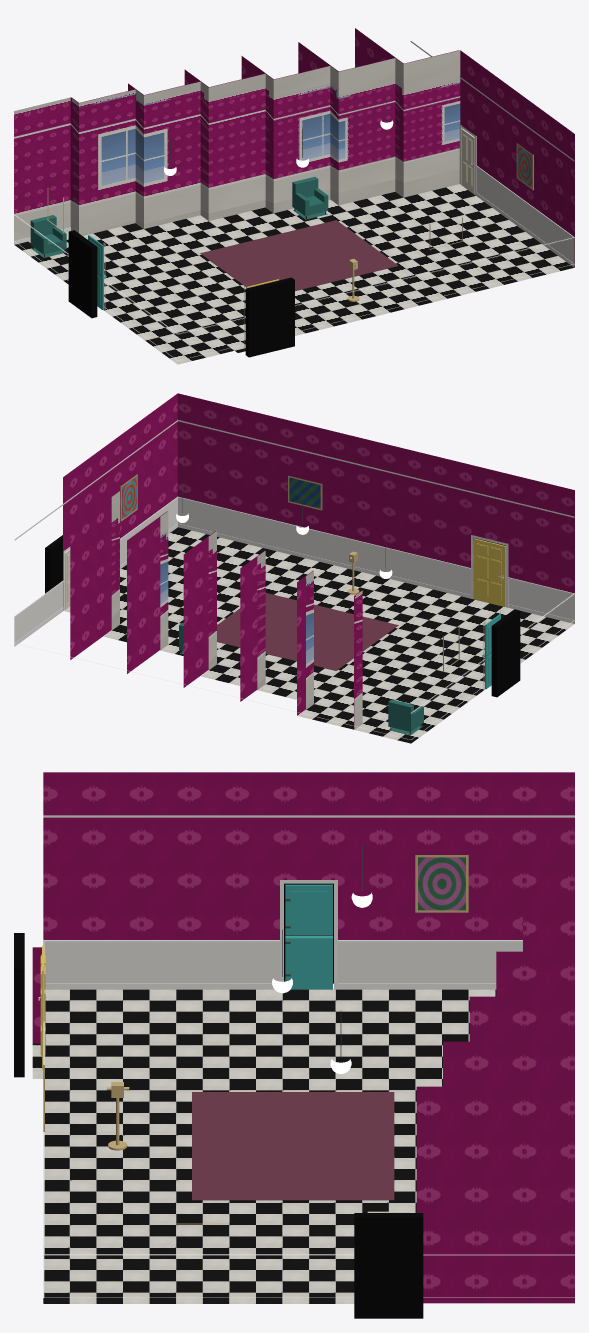
The model's file is rdwe_ames_room.glb.
3 renders of one model, top to bottom at view 1: azimuth 30°, elevation 25°; view 2: azimuth 150°, elevation 25°; view 3: azimuth 270°, elevation 25°, orthographic. The views are drawn at different scales.
Visible parts, largest first — view 1: Ames_Proj, Ames_Floor, Ames_Paper, Rug_Red, Void_Black, Trim_White, Ames_Dado, Velvet_Green, DoorLeaf_small, Paintings, DoorLeaf_grid; view 2: Ames_Paper, Ames_Floor, Ames_Dado, Ames_Proj, Rug_Red, Trim_White, Void_Black, DoorLeaf_word, Paintings, Velvet_Green, Frame_Gilt, DoorLeaf_grid; view 3: Ames_Paper, Ames_Floor, Rug_Red, Ames_Dado, Void_Black, Trim_White, DoorLeaf_grid, Paintings, Frame_Gilt, Shade_Glass, DoorLeaf_word.
Boxes of the visible parts, <box> form: Ames_Proj: <box>14,50,460,244</box>; Ames_Floor: <box>14,184,574,364</box>; Ames_Paper: <box>71,28,574,267</box>; Rug_Red: <box>200,220,398,290</box>; Void_Black: <box>68,230,294,357</box>; Trim_White: <box>14,41,574,360</box>; Ames_Dado: <box>14,167,574,334</box>; Velvet_Green: <box>30,176,328,257</box>; DoorLeaf_small: <box>461,128,474,194</box>; Paintings: <box>517,145,532,187</box>; DoorLeaf_grid: <box>88,235,106,309</box>; Ames_Paper: <box>63,393,574,729</box>; Ames_Floor: <box>64,527,574,743</box>; Ames_Dado: <box>14,498,574,713</box>; Ames_Proj: <box>111,491,362,729</box>; Rug_Red: <box>217,593,398,670</box>; Trim_White: <box>14,419,574,739</box>; Void_Black: <box>45,535,520,697</box>; DoorLeaf_word: <box>473,538,505,606</box>; Paintings: <box>122,476,320,518</box>; Velvet_Green: <box>179,623,423,735</box>; Frame_Gilt: <box>120,474,459,671</box>; DoorLeaf_grid: <box>482,614,500,689</box>; Ames_Paper: <box>32,772,574,1303</box>; Ames_Floor: <box>32,989,496,1303</box>; Rug_Red: <box>192,1092,394,1200</box>; Ames_Dado: <box>43,943,574,1255</box>; Void_Black: <box>14,883,423,1318</box>; Trim_White: <box>43,815,574,1297</box>; DoorLeaf_grid: <box>285,884,332,989</box>; Paintings: <box>418,857,465,910</box>; Frame_Gilt: <box>43,855,468,1224</box>; Shade_Glass: <box>272,892,372,1073</box>; DoorLeaf_word: <box>38,945,47,1069</box>.
Bounding box in the file's own units: 15.1 × 4.55 × 10.55.
Materials: 20 (8 with a texture image).
